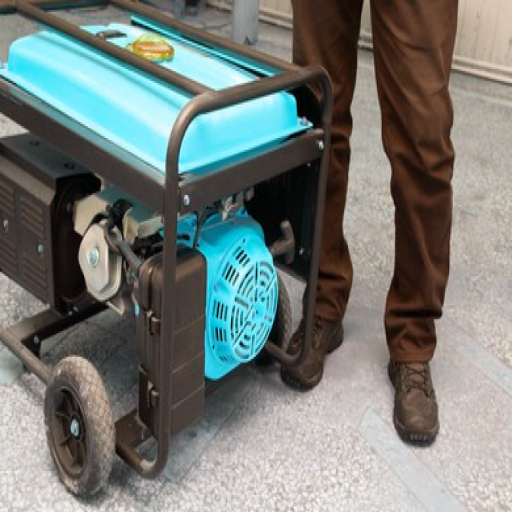portable_generator: (1, 1, 332, 449)
